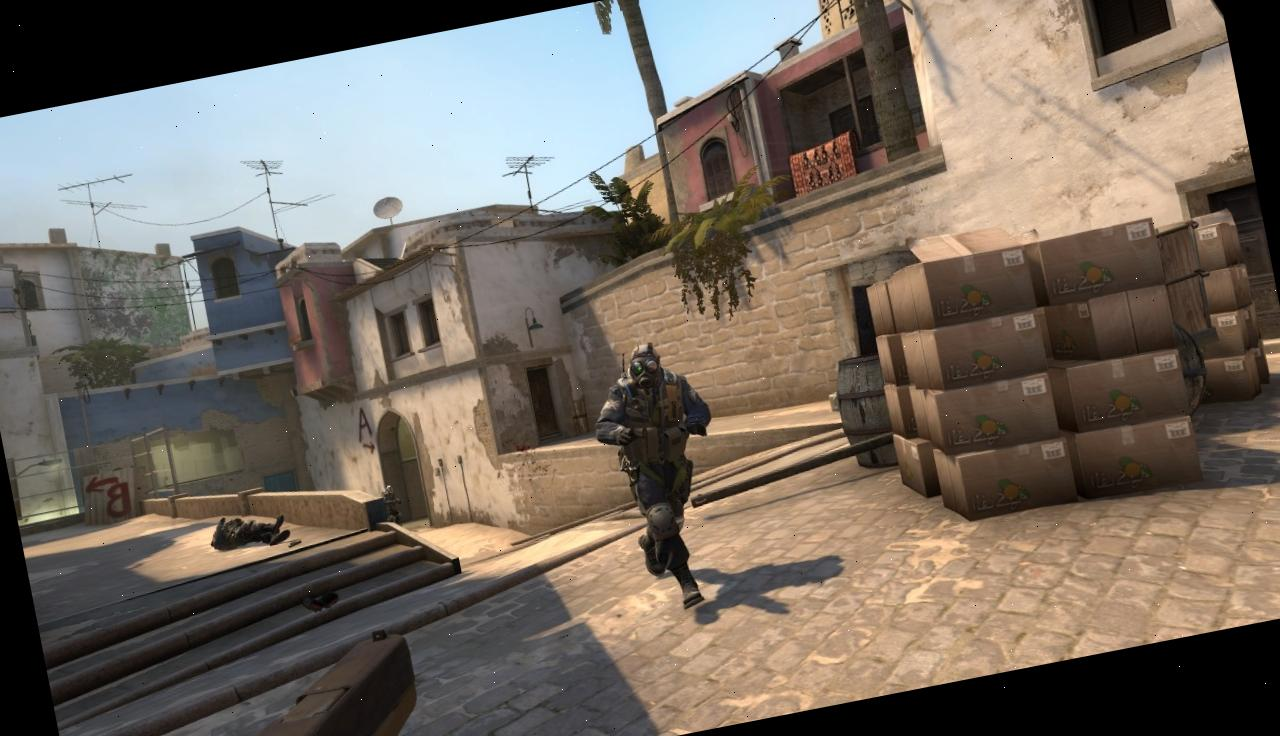ct: (582, 334, 744, 620)
cthead: (623, 341, 663, 389)
pistol: (130, 625, 441, 736)
